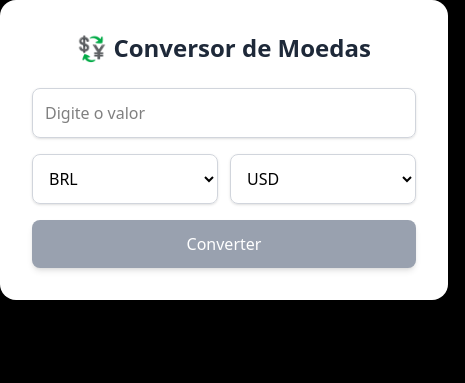
Test: CurrencyConverter - Simplified Tests › Error Handling › should display error message on network failure
Type "100" into the field with placeholder "Digite o valor" at (224, 113), box [32,88,416,138]
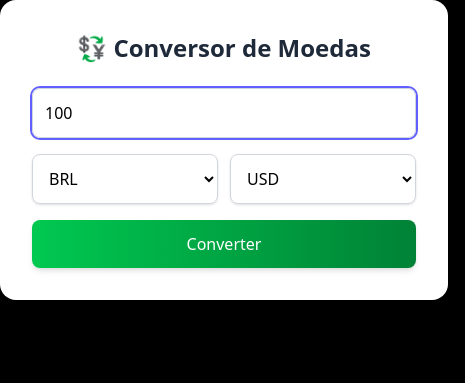
Click the button "Converter" at (224, 244), box [32,220,416,268]
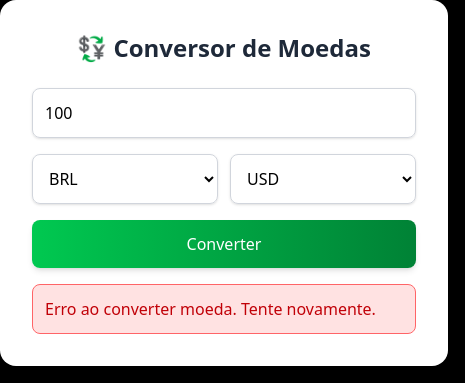
expect the text "Erro ao converter moeda. Tente novamente." is shown: met, box [32,284,416,334]
